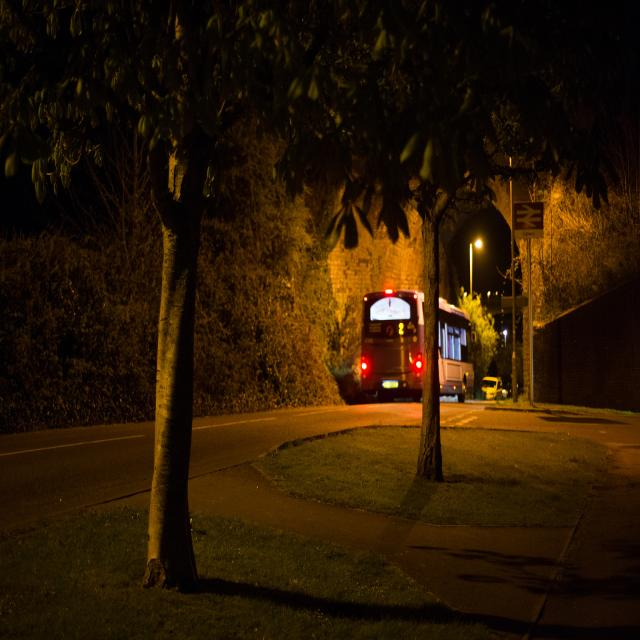Bus: (339, 272, 486, 443)
